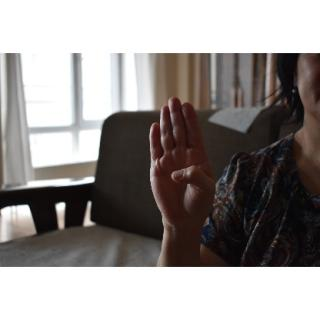KAAF: (145, 93, 218, 241)
